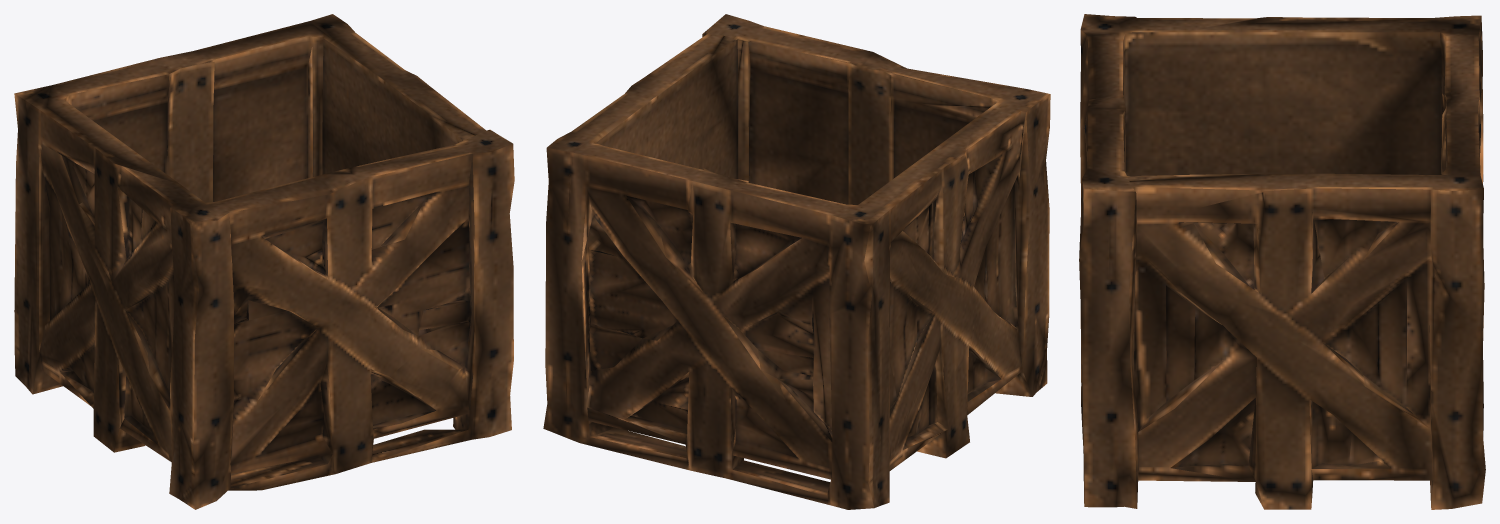
Rendered from crate.glb.
The picture shows the model from 3 angles, left to right: view 1: azimuth 30°, elevation 25°; view 2: azimuth 150°, elevation 25°; view 3: azimuth 270°, elevation 25°; orthographic projection. The views are drawn at different scales.
Parts seen in each view (by area): view 1: Mesh_0.001; view 2: Mesh_0.001; view 3: Mesh_0.001.
Boxes of the visible parts, x1,y1,x2,y2 form: Mesh_0.001: (14, 14, 514, 509); Mesh_0.001: (543, 14, 1050, 509); Mesh_0.001: (1079, 14, 1485, 509).
Size of the model in its own units: 1.91 by 1.61 by 1.84.
Materials: 1 (1 with a texture image).
